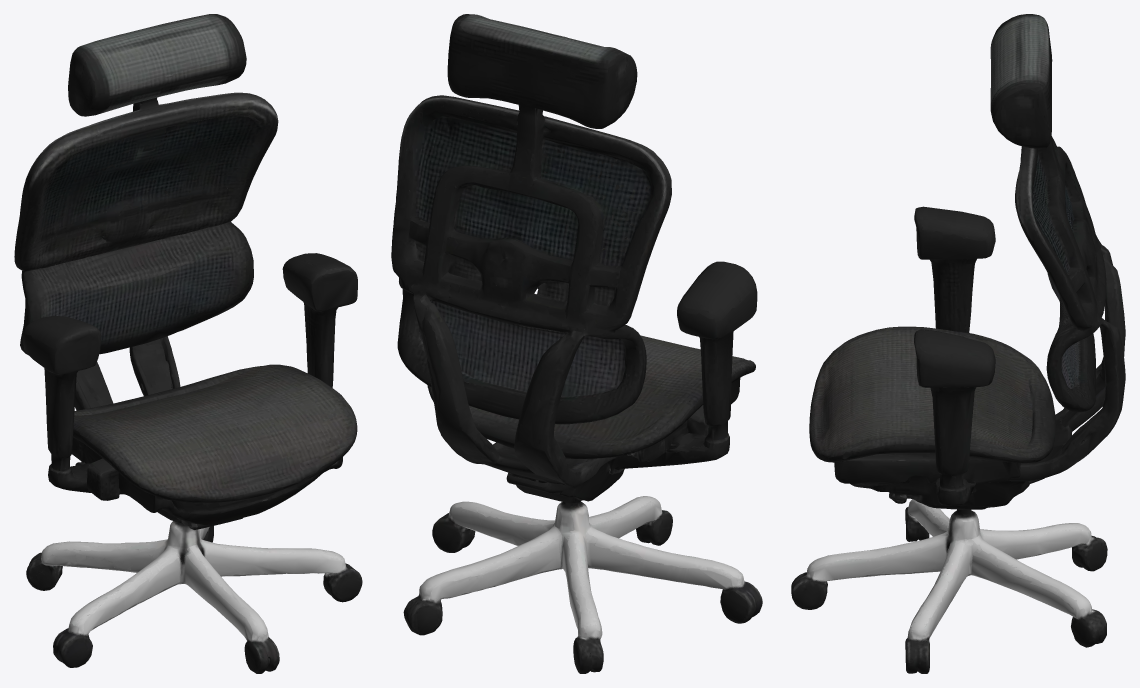
File: ergonor-jinhao-b.glb
The picture shows the model from 3 angles, left to right: view 1: azimuth 30°, elevation 25°; view 2: azimuth 150°, elevation 25°; view 3: azimuth 270°, elevation 25°; orthographic projection. The views are drawn at different scales.
Visible parts, largest first — view 1: world; view 2: world; view 3: world.
Boxes of the visible parts, bbox=[...] form: world: bbox=[14, 14, 362, 673]; world: bbox=[391, 14, 762, 673]; world: bbox=[791, 14, 1125, 673].
Bounding box in the file's own units: 0.6788 × 1.18 × 0.6395.
1 material, 1 textured.
